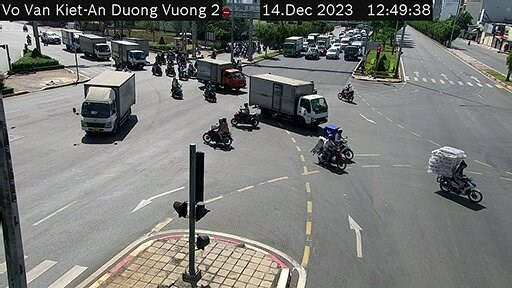motorbike: (438, 147, 495, 203), (311, 129, 345, 171), (199, 116, 232, 149), (332, 123, 359, 163), (230, 101, 264, 127), (162, 77, 190, 105), (341, 81, 354, 105)
truck: (78, 70, 140, 144), (250, 70, 327, 127), (195, 59, 240, 92), (75, 33, 109, 59), (113, 42, 146, 68), (283, 38, 299, 57), (342, 47, 359, 62)
